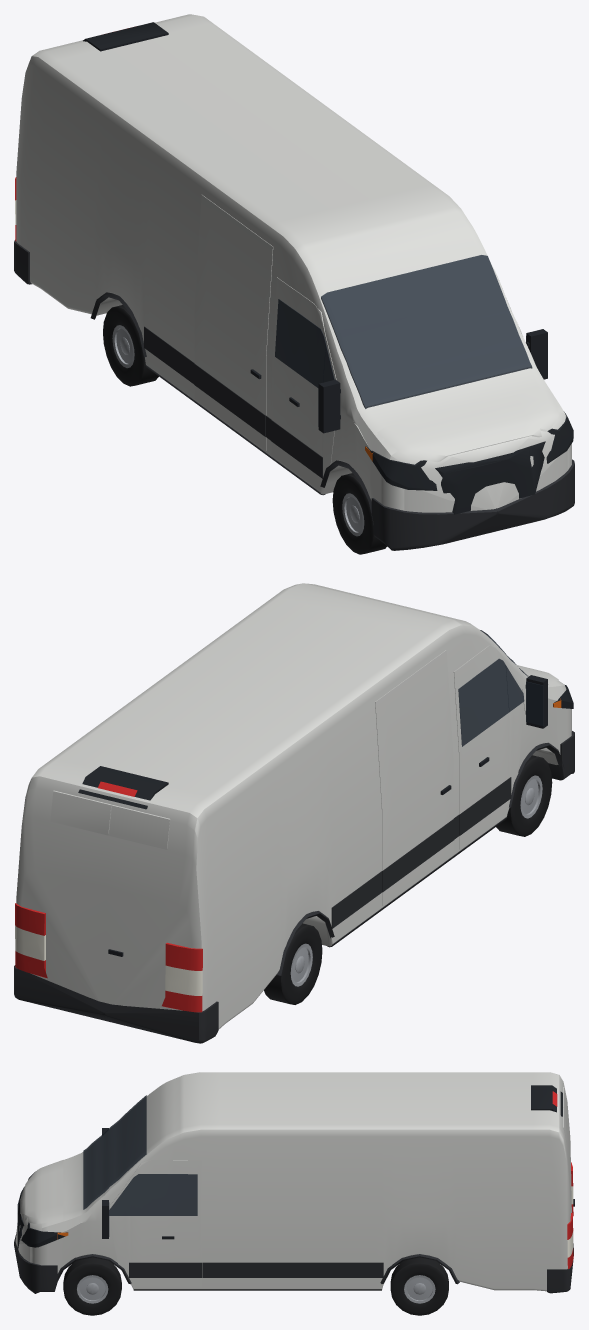
The model's file is camper-sprinter_170_ext_high.glb.
3 renders of one model, top to bottom at view 1: azimuth 30°, elevation 25°; view 2: azimuth 150°, elevation 25°; view 3: azimuth 270°, elevation 25°, orthographic. The views are drawn at different scales.
Visible parts, largest first — view 1: traveler_camper_parked, sliding_door, front_door_right, hood, rear_right_wheel, front_right_wheel, front_door_left; view 2: traveler_camper_parked, sliding_door, front_door_right, rear_right_wheel, front_right_wheel, rear_door_right, rear_door_left; view 3: traveler_camper_parked, front_door_left, front_left_wheel, rear_left_wheel, hood.
Boxes of the visible parts, box(x1,y1,x2,y2) form: traveler_camper_parked: box(14, 14, 574, 550); sliding_door: box(194, 195, 273, 450); front_door_right: box(271, 277, 340, 489); hood: box(377, 389, 558, 462); rear_right_wheel: box(103, 305, 158, 386); front_right_wheel: box(332, 473, 386, 554); front_door_left: box(492, 266, 547, 379); traveler_camper_parked: box(14, 583, 574, 1043); sliding_door: box(375, 650, 454, 905); front_door_right: box(453, 645, 547, 849); rear_right_wheel: box(264, 923, 322, 1004); front_right_wheel: box(496, 755, 552, 836); rear_door_right: box(108, 805, 170, 956); rear_door_left: box(50, 790, 111, 835); traveler_camper_parked: box(14, 1072, 573, 1293); front_door_left: box(102, 1160, 201, 1287); front_left_wheel: box(63, 1257, 121, 1315); rear_left_wheel: box(390, 1257, 448, 1315); hood: box(25, 1160, 63, 1223).
Bounding box in the file's own units: 2.44 × 2.74 × 7.41.
